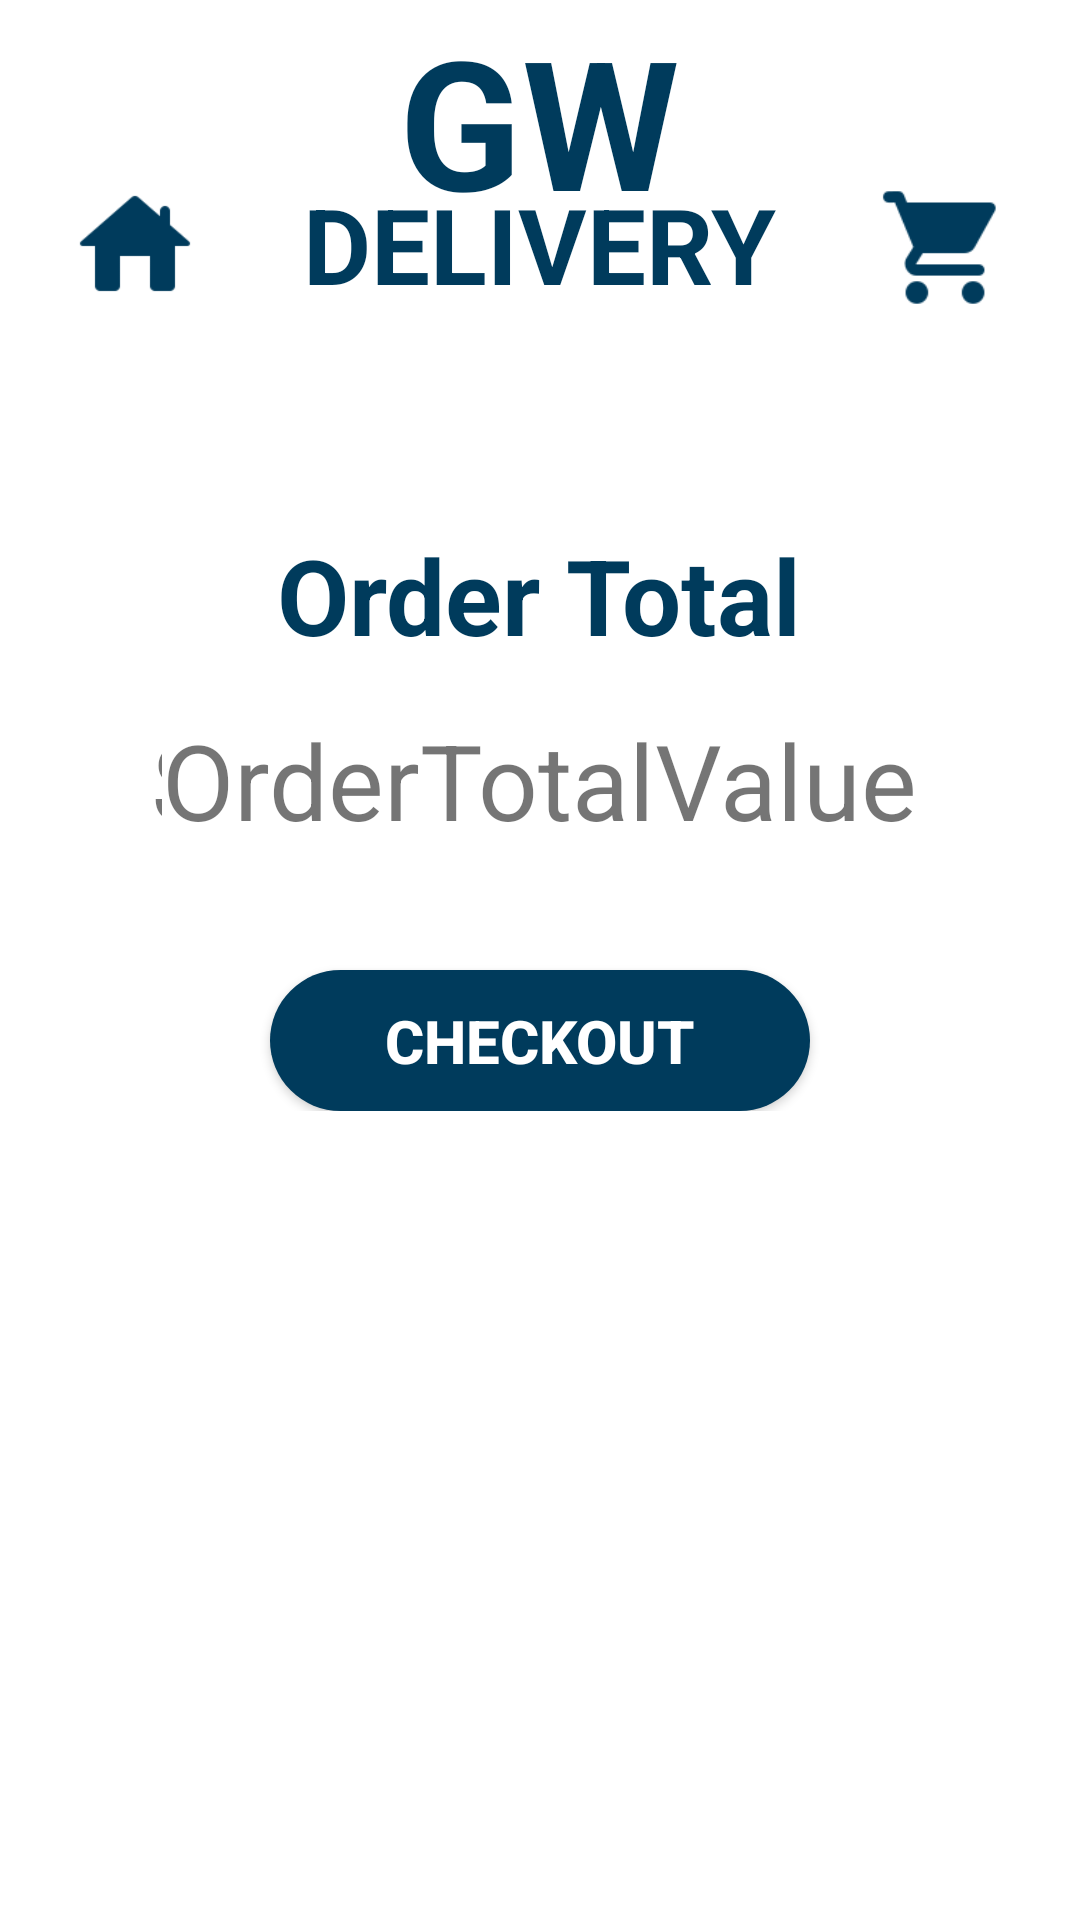

Point at icon controls on the screen. Image size 1080w x 1920h, points as point (x, y).
home: point (135, 244)
shopping cart: point (939, 247)
